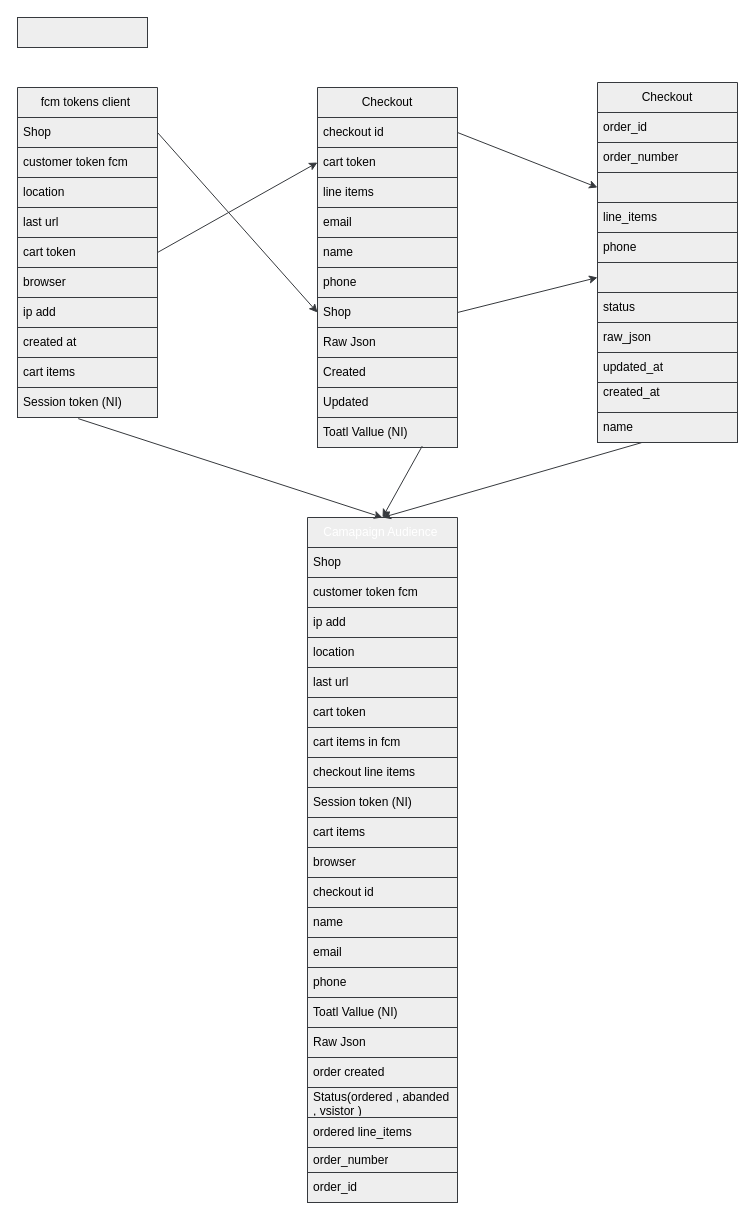
The diagram is 755 pixels wide and 1220 high, and some of its shapes have lost their labels. The shapes that lost their labels are listed below. From the top down, each one's centre as x and y in pixels, then its label:
At [82,32]: "NI - Need to Include".
At [667,187]: "checkout_id".
At [667,277]: "shop_domain".
